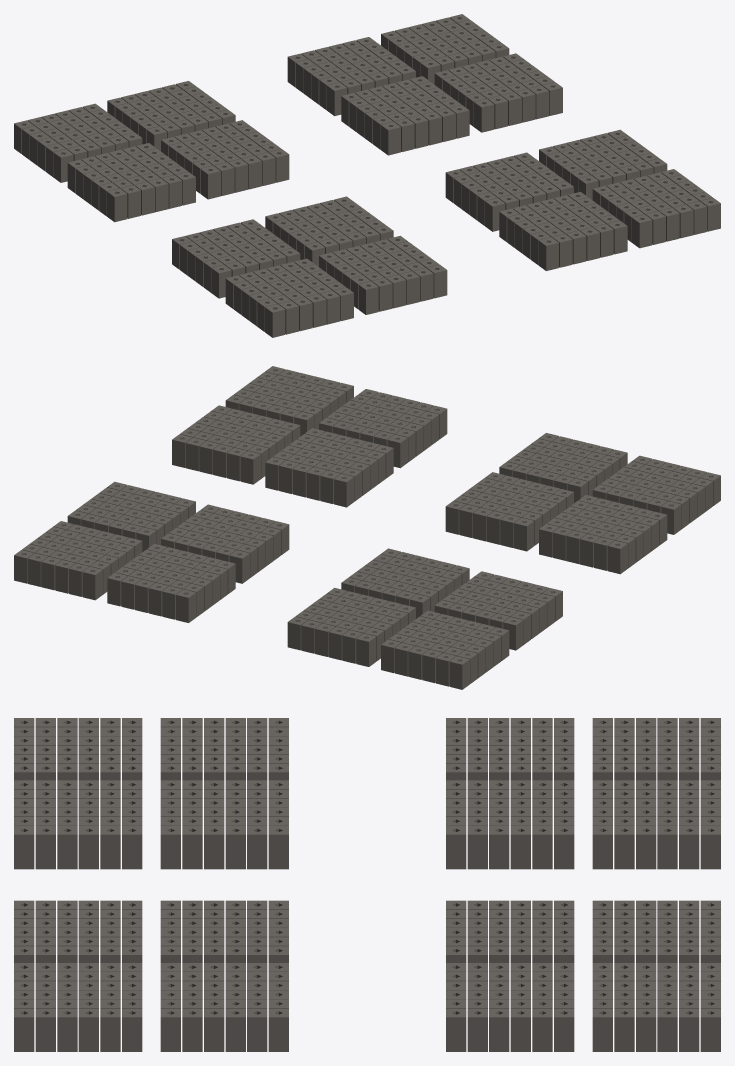
File: kostki_maszyna.fbx
The picture shows the model from 3 angles, top to bottom: view 1: azimuth 30°, elevation 25°; view 2: azimuth 150°, elevation 25°; view 3: azimuth 270°, elevation 25°; orthographic projection. The views are drawn at different scales.
Parts seen in each view (by area): view 1: Cube.078, Cube.079, Cube.674, Cube.675, Cube.222, Cube.223, Cube.366, Cube.367, Cube.210, Cube.066, Cube.354, Cube.662; view 2: Cube.006, Cube.602, Cube.603, Cube.150, Cube.151, Cube.294, Cube.295, Cube.007, Cube.734, Cube.138, Cube.426, Cube.282; view 3: Cube.050, Cube.098, Cube.122, Cube.646, Cube.694, Cube.718, Cube.170, Cube.194, Cube.266, Cube.314, Cube.338, Cube.410 (+36 smaller).
Boxes of the visible parts, <box> form: Cube.078: <box>358,281,378,314</box>; Cube.079: <box>265,304,285,337</box>; Cube.674: <box>632,214,652,248</box>; Cube.675: <box>538,237,558,270</box>; Cube.222: <box>474,99,494,132</box>; Cube.223: <box>380,121,400,155</box>; Cube.366: <box>200,165,220,199</box>; Cube.367: <box>107,188,127,222</box>; Cube.210: <box>327,82,347,116</box>; Cube.066: <box>211,265,231,298</box>; Cube.354: <box>53,149,73,182</box>; Cube.662: <box>485,198,505,231</box>; Cube.006: <box>514,517,534,551</box>; Cube.602: <box>240,451,260,484</box>; Cube.603: <box>334,473,354,507</box>; Cube.150: <box>82,566,102,600</box>; Cube.151: <box>176,589,196,622</box>; Cube.294: <box>356,633,376,666</box>; Cube.295: <box>449,656,469,689</box>; Cube.007: <box>607,540,627,574</box>; Cube.734: <box>387,434,407,468</box>; Cube.138: <box>661,501,681,534</box>; Cube.426: <box>503,617,523,650</box>; Cube.282: <box>229,550,249,583</box>; Cube.050: <box>182,826,202,869</box>; Cube.098: <box>57,826,77,869</box>; Cube.122: <box>100,826,120,869</box>; Cube.646: <box>182,1008,202,1051</box>; Cube.694: <box>57,1008,77,1051</box>; Cube.718: <box>100,1008,120,1051</box>; Cube.170: <box>657,1008,677,1051</box>; Cube.194: <box>614,1008,634,1051</box>; Cube.266: <box>532,1008,552,1051</box>; Cube.314: <box>657,826,677,869</box>; Cube.338: <box>614,826,634,869</box>; Cube.410: <box>532,826,552,869</box>.
Size of the model in its own units: 5572 by 300 by 5565.
